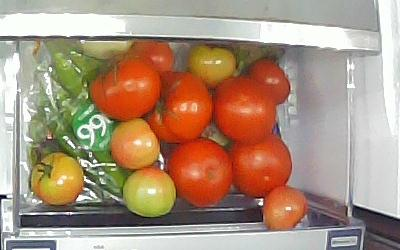tomato: (142, 70, 212, 143), (89, 53, 159, 121), (167, 138, 233, 209), (214, 75, 276, 143), (229, 133, 292, 196), (29, 152, 83, 206), (120, 166, 177, 216), (108, 119, 160, 170), (244, 57, 292, 108), (187, 43, 237, 90), (262, 184, 309, 230), (127, 40, 175, 70)
